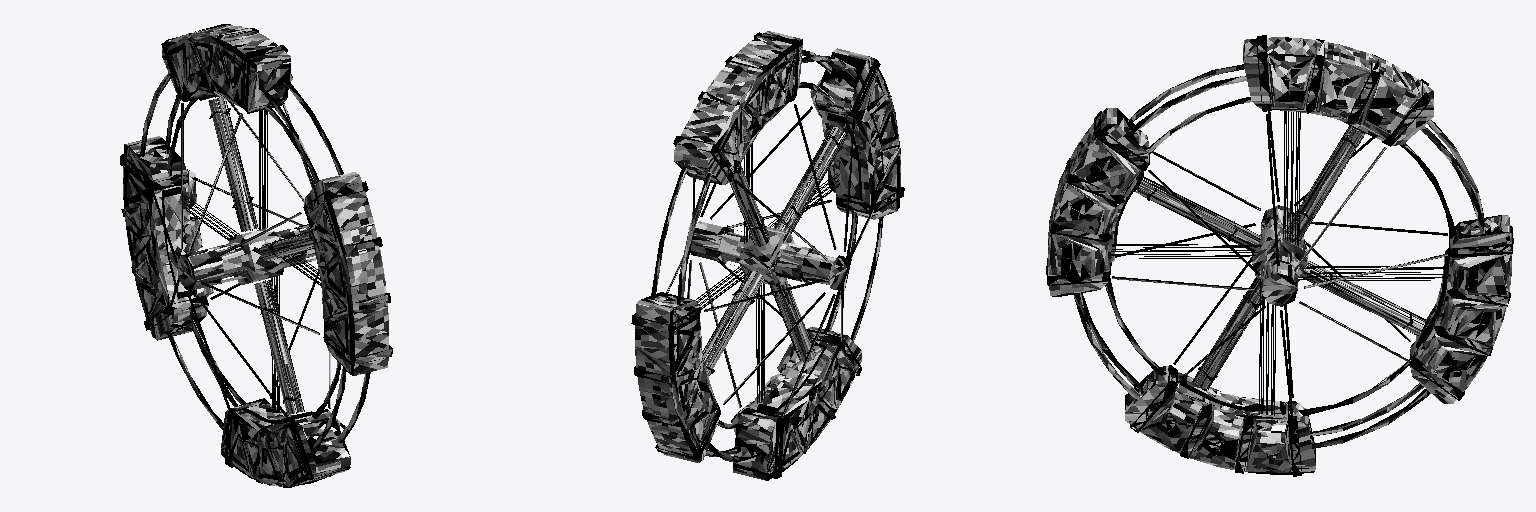
3 views of the same model, side by side, from view 1: azimuth 30°, elevation 25°; view 2: azimuth 150°, elevation 25°; view 3: azimuth 270°, elevation 25° (orthographic).
Size of the model in its own units: 16.94 by 49.16 by 49.05.
Materials: 1 (1 with a texture image).